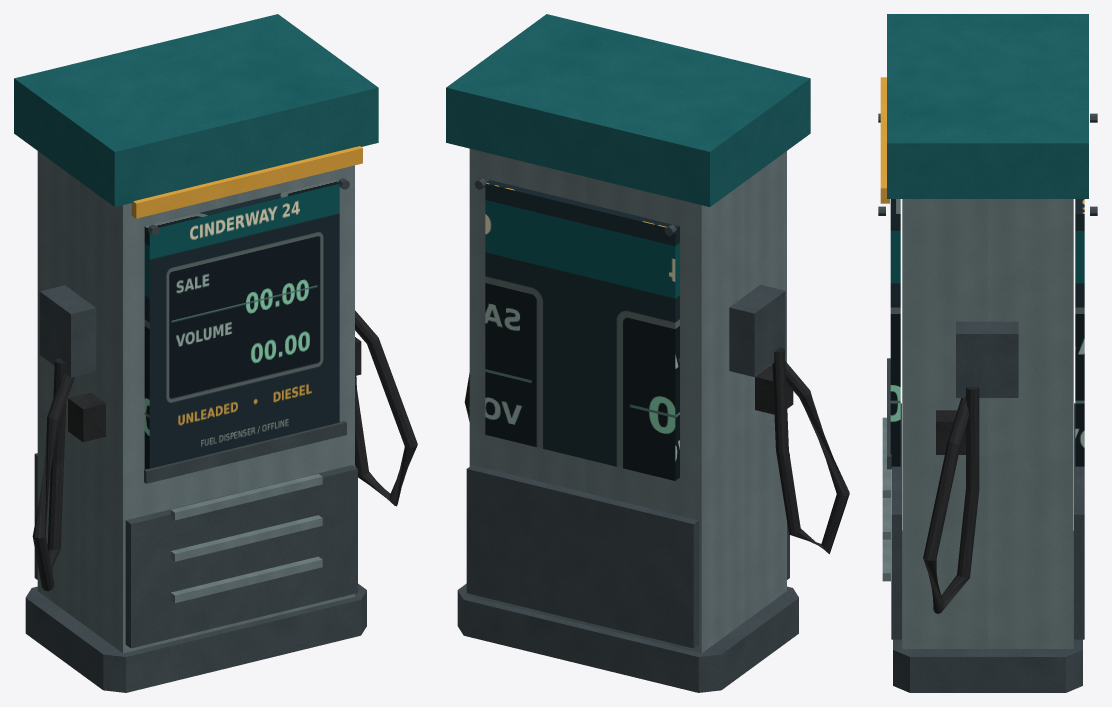
Rendered from CW24_04_Dual_Fuel_Dispenser.glb.
3 renders of one model, left to right at view 1: azimuth 30°, elevation 25°; view 2: azimuth 150°, elevation 25°; view 3: azimuth 270°, elevation 25°, orthographic.
Parts seen in each view (by area): view 1: Fuel_Dispenser__Pump_Body_Main, Fuel_Dispenser__Pump_Front_ControlFace, Fuel_Dispenser__Pump_Head_Canopy, Fuel_Dispenser__Pump_Lower_Armour_Front, Fuel_Dispenser__Pump_Base_Platform, Fuel_Dispenser__Pump_Lower_Front_Vents, Fuel_Dispenser__Fuel_Hose_0, Fuel_Dispenser__Nozzle_Cradle_0, Fuel_Dispenser__Pump_Meter_Ribbon, Fuel_Dispenser__Fuel_Hose_1, Fuel_Dispenser__Pump_Front_Display_Lip, Fuel_Dispenser__Nozzle_Left; view 2: Fuel_Dispenser__Pump_Body_Main, Fuel_Dispenser__Pump_Rear_ControlFace, Fuel_Dispenser__Pump_Head_Canopy, Fuel_Dispenser__Pump_Lower_Armour_Rear, Fuel_Dispenser__Pump_Base_Platform, Fuel_Dispenser__Fuel_Hose_0, Fuel_Dispenser__Nozzle_Cradle_0, Fuel_Dispenser__Nozzle_Left; view 3: Fuel_Dispenser__Pump_Body_Main, Fuel_Dispenser__Pump_Head_Canopy, Fuel_Dispenser__Pump_Base_Platform, Fuel_Dispenser__Fuel_Hose_1, Fuel_Dispenser__Nozzle_Cradle_1, Fuel_Dispenser__Pump_Front_ControlFace, Fuel_Dispenser__Pump_Rear_ControlFace, Fuel_Dispenser__Pump_Lower_Armour_Rear, Fuel_Dispenser__Pump_Lower_Armour_Front, Fuel_Dispenser__Pump_Lower_Front_Vents, Fuel_Dispenser__Pump_Meter_Ribbon, Fuel_Dispenser__Nozzle_Right (+1 smaller).
Boxes of the visible parts, left/top/right/bottom form: Fuel_Dispenser__Pump_Body_Main: left=37, top=151, right=354, bottom=653; Fuel_Dispenser__Pump_Front_ControlFace: left=144, top=180, right=339, bottom=469; Fuel_Dispenser__Pump_Head_Canopy: left=14, top=14, right=378, bottom=206; Fuel_Dispenser__Pump_Lower_Armour_Front: left=125, top=465, right=357, bottom=648; Fuel_Dispenser__Pump_Base_Platform: left=25, top=583, right=366, bottom=692; Fuel_Dispenser__Pump_Lower_Front_Vents: left=170, top=473, right=322, bottom=603; Fuel_Dispenser__Fuel_Hose_0: left=32, top=358, right=74, bottom=591; Fuel_Dispenser__Nozzle_Cradle_0: left=39, top=285, right=96, bottom=377; Fuel_Dispenser__Pump_Meter_Ribbon: left=131, top=146, right=362, bottom=218; Fuel_Dispenser__Fuel_Hose_1: left=355, top=310, right=417, bottom=506; Fuel_Dispenser__Pump_Front_Display_Lip: left=144, top=421, right=346, bottom=483; Fuel_Dispenser__Nozzle_Left: left=68, top=392, right=105, bottom=442; Fuel_Dispenser__Pump_Body_Main: left=469, top=148, right=786, bottom=653; Fuel_Dispenser__Pump_Rear_ControlFace: left=485, top=180, right=679, bottom=480; Fuel_Dispenser__Pump_Head_Canopy: left=446, top=14, right=810, bottom=206; Fuel_Dispenser__Pump_Lower_Armour_Rear: left=466, top=465, right=698, bottom=648; Fuel_Dispenser__Pump_Base_Platform: left=457, top=583, right=798, bottom=692; Fuel_Dispenser__Fuel_Hose_0: left=771, top=347, right=849, bottom=553; Fuel_Dispenser__Nozzle_Cradle_0: left=729, top=284, right=785, bottom=376; Fuel_Dispenser__Nozzle_Left: left=755, top=366, right=793, bottom=414; Fuel_Dispenser__Pump_Body_Main: left=902, top=199, right=1073, bottom=648; Fuel_Dispenser__Pump_Head_Canopy: left=887, top=14, right=1088, bottom=198; Fuel_Dispenser__Pump_Base_Platform: left=893, top=531, right=1082, bottom=692; Fuel_Dispenser__Fuel_Hose_1: left=923, top=387, right=979, bottom=613; Fuel_Dispenser__Nozzle_Cradle_1: left=956, top=321, right=1018, bottom=397; Fuel_Dispenser__Pump_Front_ControlFace: left=890, top=199, right=900, bottom=466; Fuel_Dispenser__Pump_Rear_ControlFace: left=1075, top=199, right=1084, bottom=466; Fuel_Dispenser__Pump_Lower_Armour_Rear: left=1074, top=403, right=1084, bottom=639; Fuel_Dispenser__Pump_Lower_Armour_Front: left=891, top=403, right=901, bottom=639; Fuel_Dispenser__Pump_Lower_Front_Vents: left=882, top=417, right=890, bottom=581; Fuel_Dispenser__Pump_Meter_Ribbon: left=880, top=77, right=889, bottom=203; Fuel_Dispenser__Nozzle_Right: left=936, top=410, right=965, bottom=454.
Bounding box in the file's own units: 1.45 × 1.98 × 0.716.
6 materials, 6 textured.
